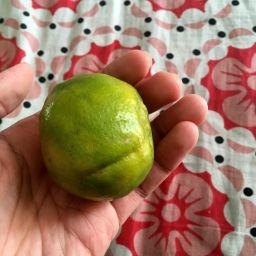Unripe: (40, 74, 154, 203)
